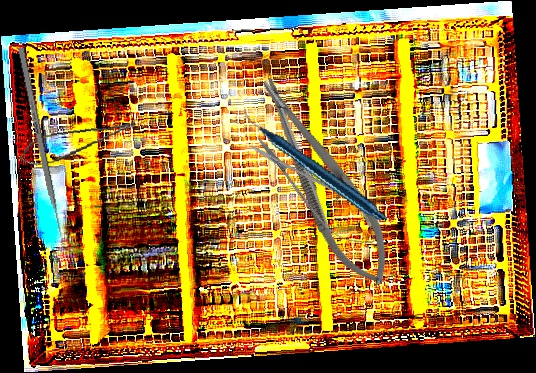Handpiece: (243, 79, 388, 250)
Micro Scissor: (241, 126, 387, 258), (17, 118, 139, 170)
Needle Holder: (242, 65, 407, 297)
Pusher: (17, 47, 67, 248)
